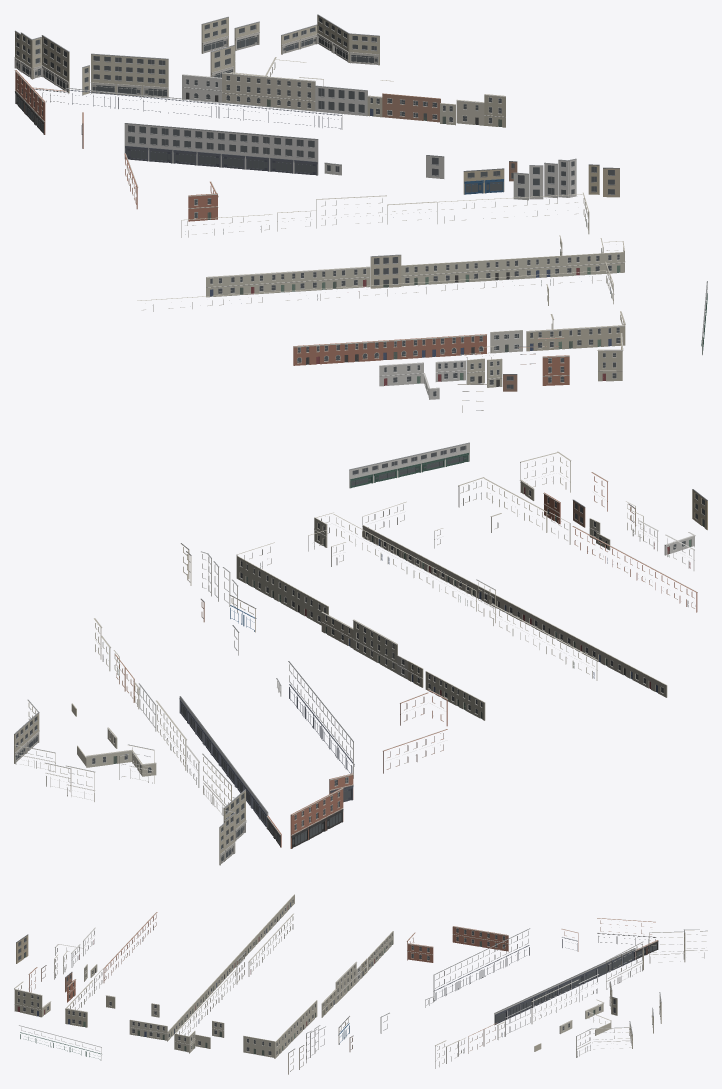
The picture shows the model from 3 angles, top to bottom: view 1: azimuth 30°, elevation 25°; view 2: azimuth 150°, elevation 25°; view 3: azimuth 270°, elevation 25°; orthographic projection. The views are drawn at different scales.
Visible parts, largest first — view 1: f:way/172147515, f:way/104591113, f:way/171282500, f:way/172029470, f:way/171282501, f:way/1037936457, f:way/172020423, f:way/171282497, f:way/172022955, f:way/171152265, f:way/1037950896, f:way/972913154 (+12 smaller); view 2: f:way/172021734, f:way/172147515, f:way/104591113, f:way/148827006, f:way/171152268, f:way/972913154, f:way/1037936457, f:way/171152273, f:way/171282500, f:way/171152274, f:way/172029470, f:way/171152275 (+1 smaller); view 3: f:way/104591113, f:way/172021734, f:way/172147515, f:way/171152270, f:way/171152268, f:way/171282500, f:way/1037936457, f:way/171282503, f:way/171282497, f:way/972913154, f:way/171152273, f:way/172029470 (+3 smaller).
Boxes of the visible parts, bbox=[...] form: f:way/172147515: bbox=[14, 14, 379, 98]; f:way/104591113: bbox=[66, 88, 342, 175]; f:way/171282500: bbox=[401, 235, 625, 286]; f:way/172029470: bbox=[293, 334, 486, 365]; f:way/171282501: bbox=[206, 266, 370, 297]; f:way/1037936457: bbox=[222, 57, 323, 110]; f:way/172020423: bbox=[513, 158, 576, 200]; f:way/171282497: bbox=[526, 311, 625, 351]; f:way/172022955: bbox=[379, 360, 465, 399]; f:way/171152265: bbox=[382, 93, 440, 122]; f:way/1037950896: bbox=[315, 85, 367, 116]; f:way/972913154: bbox=[14, 70, 66, 134]; f:way/172021734: bbox=[362, 501, 667, 697]; f:way/172147515: bbox=[14, 699, 246, 865]; f:way/104591113: bbox=[179, 661, 354, 828]; f:way/148827006: bbox=[349, 442, 469, 488]; f:way/171152268: bbox=[236, 542, 328, 625]; f:way/972913154: bbox=[266, 787, 343, 848]; f:way/1037936457: bbox=[77, 700, 186, 776]; f:way/171152273: bbox=[353, 619, 397, 673]; f:way/171282500: bbox=[308, 512, 476, 611]; f:way/171152274: bbox=[425, 671, 485, 720]; f:way/172029470: bbox=[572, 526, 697, 612]; f:way/171152275: bbox=[321, 611, 353, 648]; f:way/104591113: bbox=[433, 928, 635, 1025]; f:way/172021734: bbox=[129, 894, 294, 1041]; f:way/172147515: bbox=[576, 929, 707, 1057]; f:way/171152270: bbox=[406, 926, 508, 962]; f:way/171152268: bbox=[243, 1000, 317, 1058]; f:way/171282500: bbox=[174, 969, 236, 1053]; f:way/1037936457: bbox=[531, 979, 611, 1035]; f:way/171282503: bbox=[14, 981, 50, 1017]; f:way/171282497: bbox=[65, 980, 115, 1027]; f:way/972913154: bbox=[597, 918, 658, 959]; f:way/171152273: bbox=[335, 961, 356, 1003]; f:way/172029470: bbox=[103, 912, 157, 982].
Bounding box in the file's own units: 149 × 14.27 × 252.
